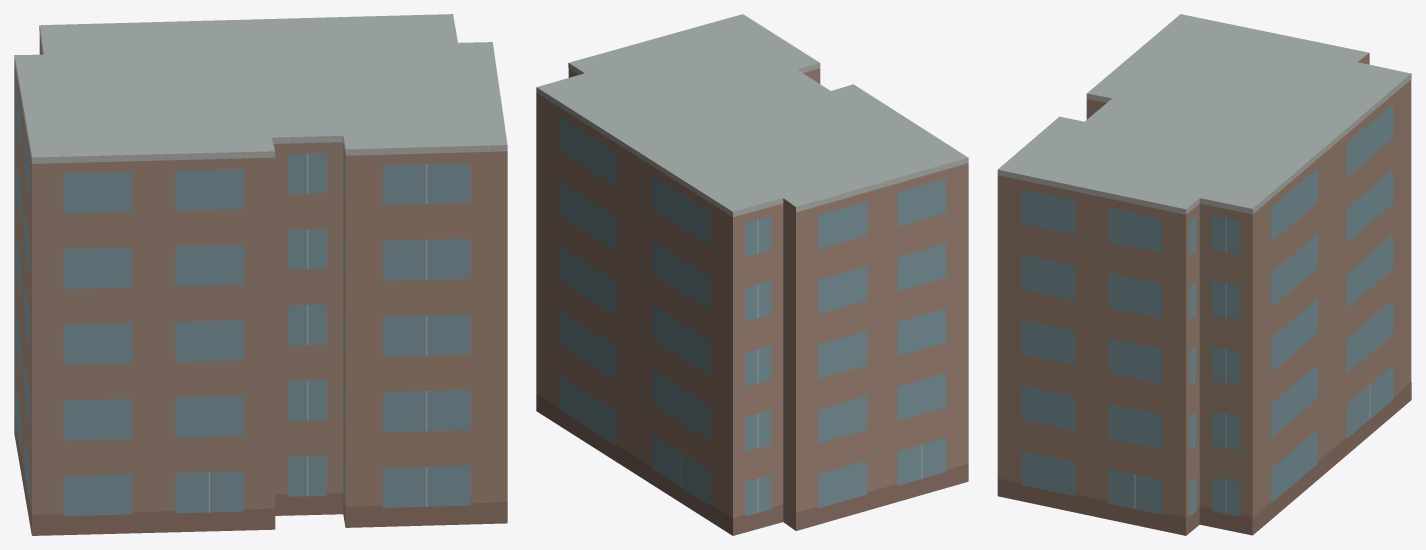
The model's file is survey-upis-32886023.glb.
3 views of the same model, side by side, from view 1: azimuth 30°, elevation 25°; view 2: azimuth 150°, elevation 25°; view 3: azimuth 270°, elevation 25° (orthographic). The views are drawn at different scales.
Parts seen in each view (by area): view 1: survey-upis-32886023.tmp; view 2: survey-upis-32886023.tmp; view 3: survey-upis-32886023.tmp.
Part boxes in pixels (<box>): survey-upis-32886023.tmp: <box>14,14,507,535</box>; survey-upis-32886023.tmp: <box>536,14,968,535</box>; survey-upis-32886023.tmp: <box>997,14,1411,535</box>.
Bounding box in the file's own units: 18.74 × 14.6 × 16.78.
